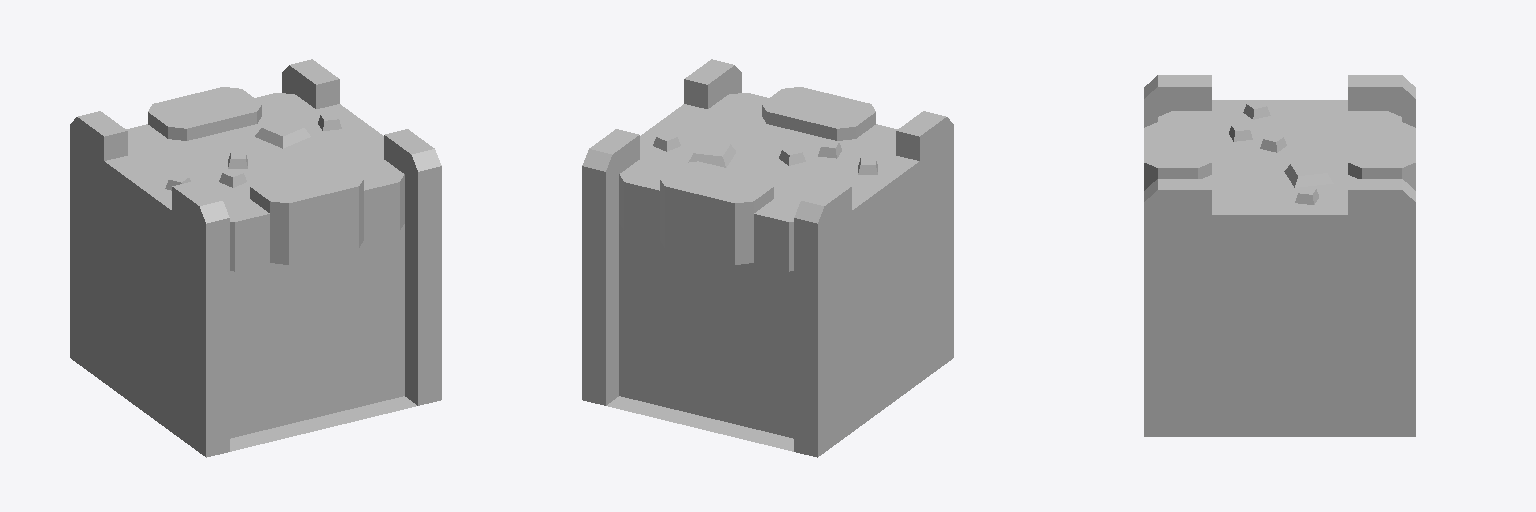
File: wall-narrow.obj
The picture shows the model from 3 angles: view 1: azimuth 30°, elevation 25°; view 2: azimuth 150°, elevation 25°; view 3: azimuth 270°, elevation 25°; orthographic projection.
Parts seen in each view (by area): view 1: wall-narrow; view 2: wall-narrow; view 3: wall-narrow.
Boxes of the visible parts, <box> form: wall-narrow: <box>70,59,441,457</box>; wall-narrow: <box>582,59,953,457</box>; wall-narrow: <box>1144,75,1415,436</box>.
Bounding box in the file's own units: 1 × 1 × 1.